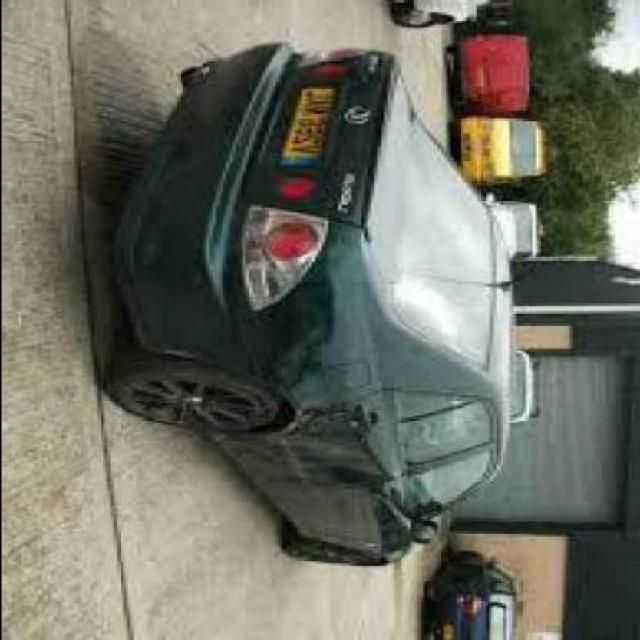damage: (213, 401, 389, 491)
